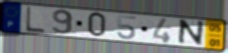0: (86, 11, 109, 40)
4: (151, 17, 173, 45)
5: (116, 14, 138, 40)
9: (51, 9, 74, 36)
L: (25, 5, 47, 34)
N: (176, 19, 206, 47)
